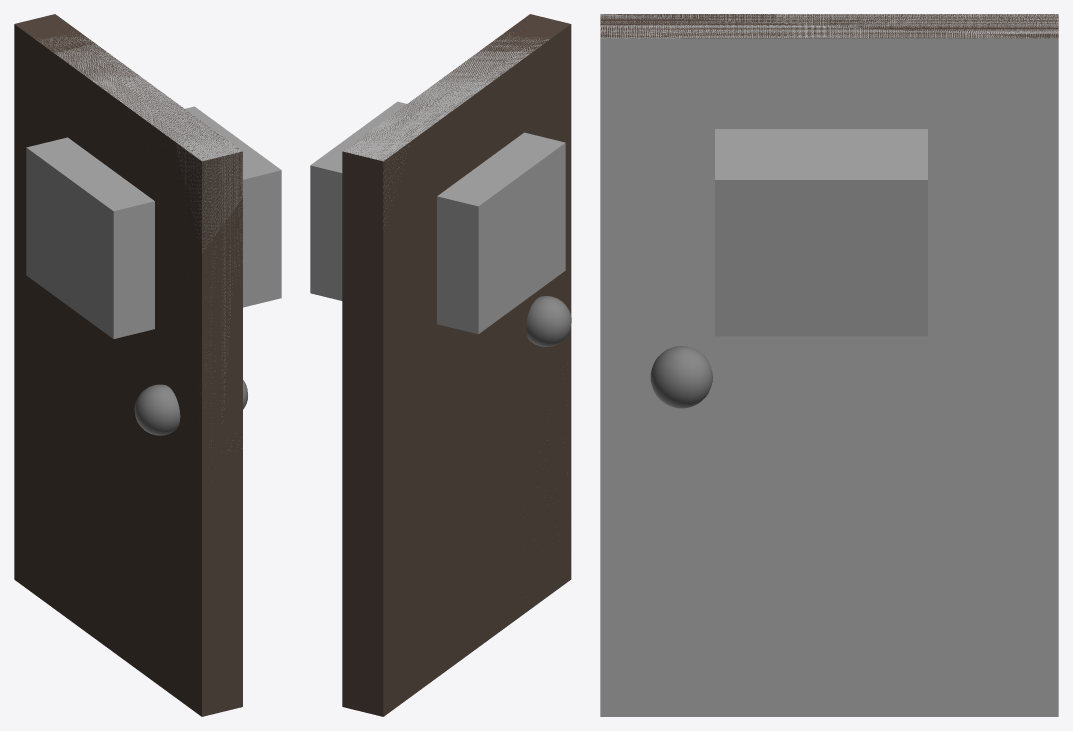
Rendered from door - Copy.fbx.
The picture shows the model from 3 angles, left to right: view 1: azimuth 30°, elevation 25°; view 2: azimuth 150°, elevation 25°; view 3: azimuth 270°, elevation 25°; orthographic projection. The views are drawn at different scales.
Parts seen in each view (by area): view 1: polySurface1, pCube2, pCube1, pasted__pSphere1; view 2: polySurface1, pCube2, pCube1, pasted__pSphere1; view 3: pCube1, pCube2, polySurface1, pSphere1.
Part boxes in pixels (x1=…): polySurface1: x1=14, y1=14, x2=242, y2=716; pCube2: x1=26, y1=106, x2=281, y2=338; pCube1: x1=37, y1=34, x2=242, y2=452; pasted__pSphere1: x1=134, y1=384, x2=180, y2=435; polySurface1: x1=342, y1=14, x2=571, y2=716; pCube2: x1=310, y1=101, x2=565, y2=334; pCube1: x1=342, y1=32, x2=567, y2=540; pasted__pSphere1: x1=526, y1=296, x2=571, y2=346; pCube1: x1=600, y1=14, x2=1058, y2=716; pCube2: x1=715, y1=129, x2=927, y2=336; polySurface1: x1=600, y1=14, x2=1058, y2=38; pSphere1: x1=650, y1=346, x2=712, y2=408.
Bounding box in the file's own units: 158 × 499 × 306.
